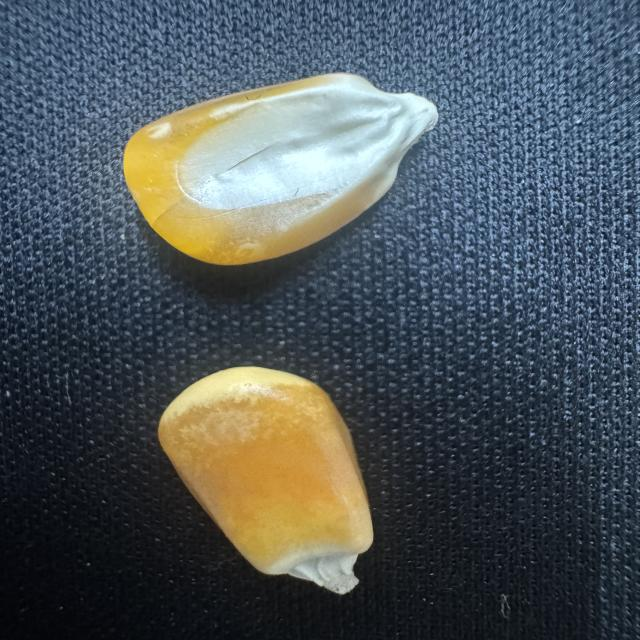Good-Seed: (116, 67, 442, 270), (150, 361, 380, 597)
